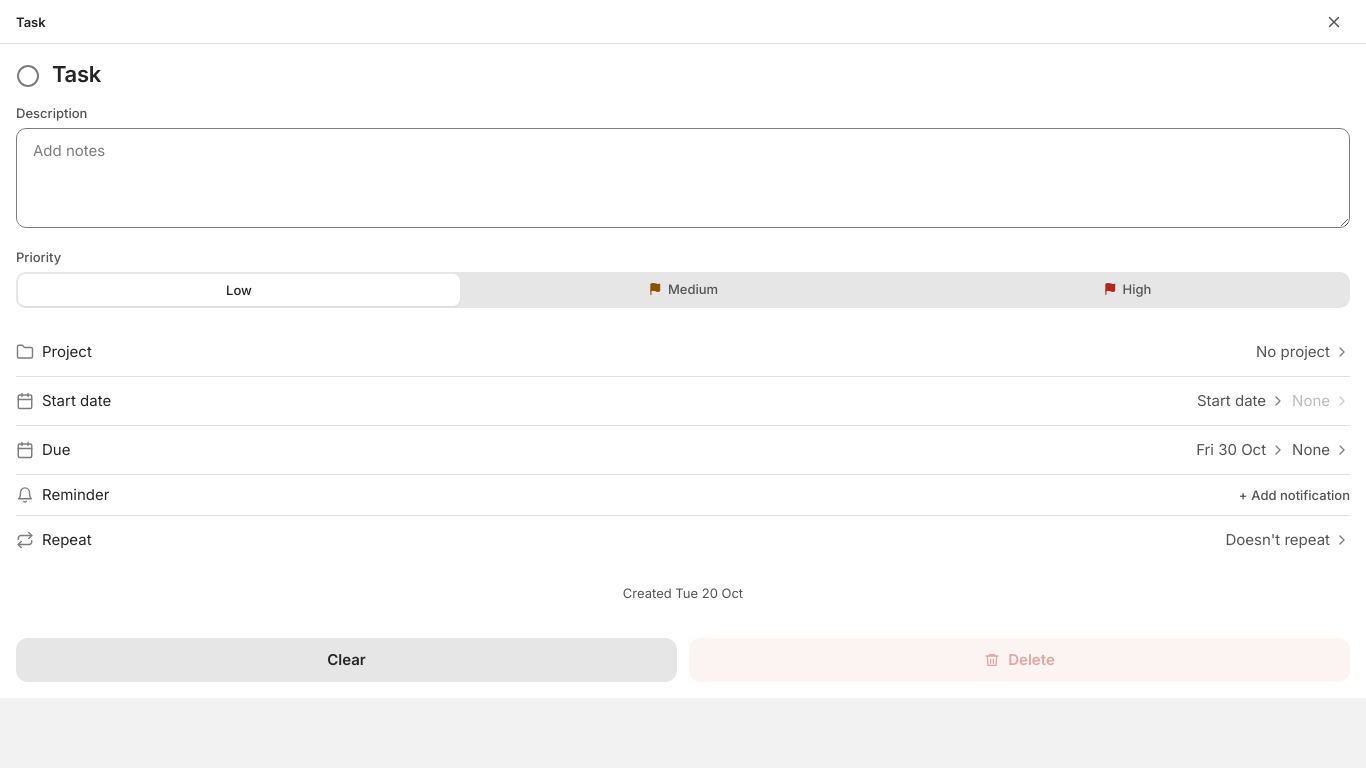
Test: Task details fields (T-TK-10) › cancel closes the Clear dialog without patching and returns focus to the Clear button (UX-11)
Click the button "Clear" at coordinates (346, 660), box [16,638,677,682]
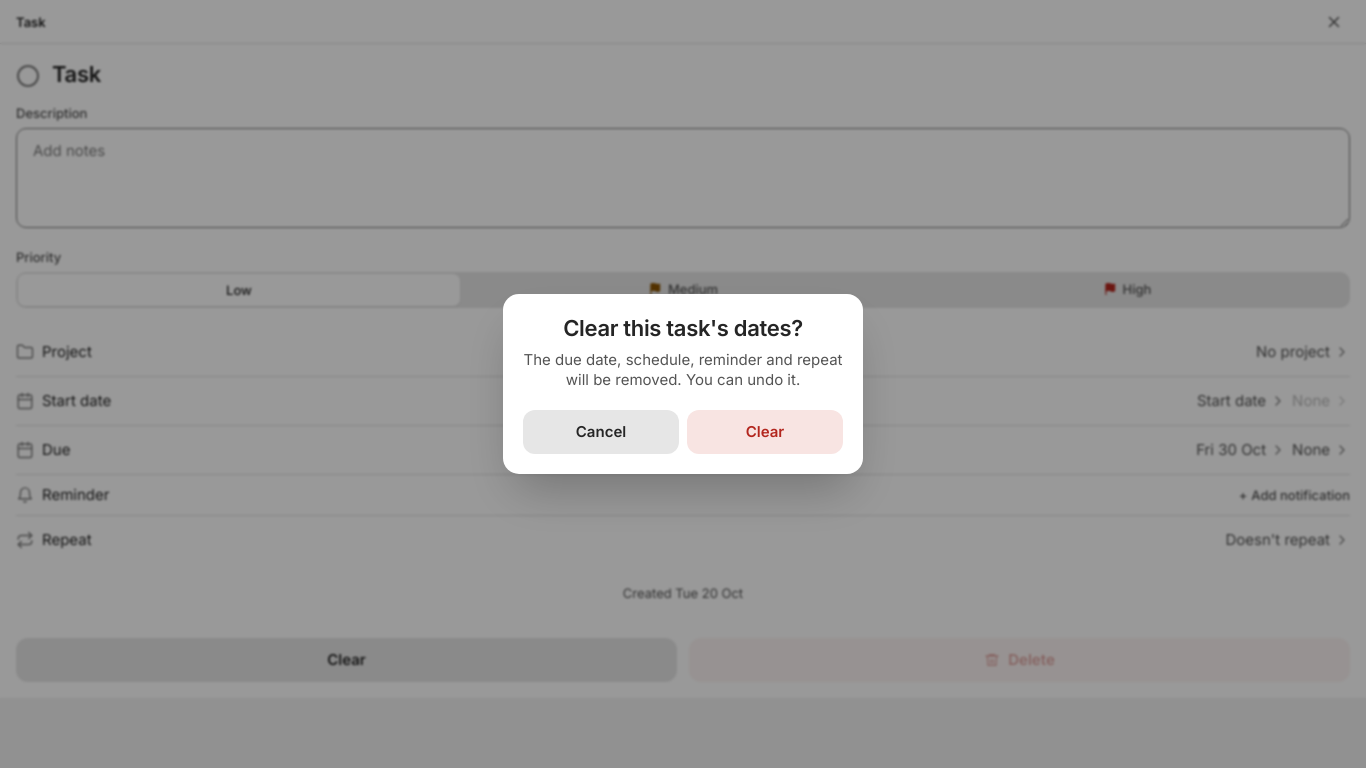
Click the button "Cancel" at coordinates (601, 432), box [523,410,679,454]
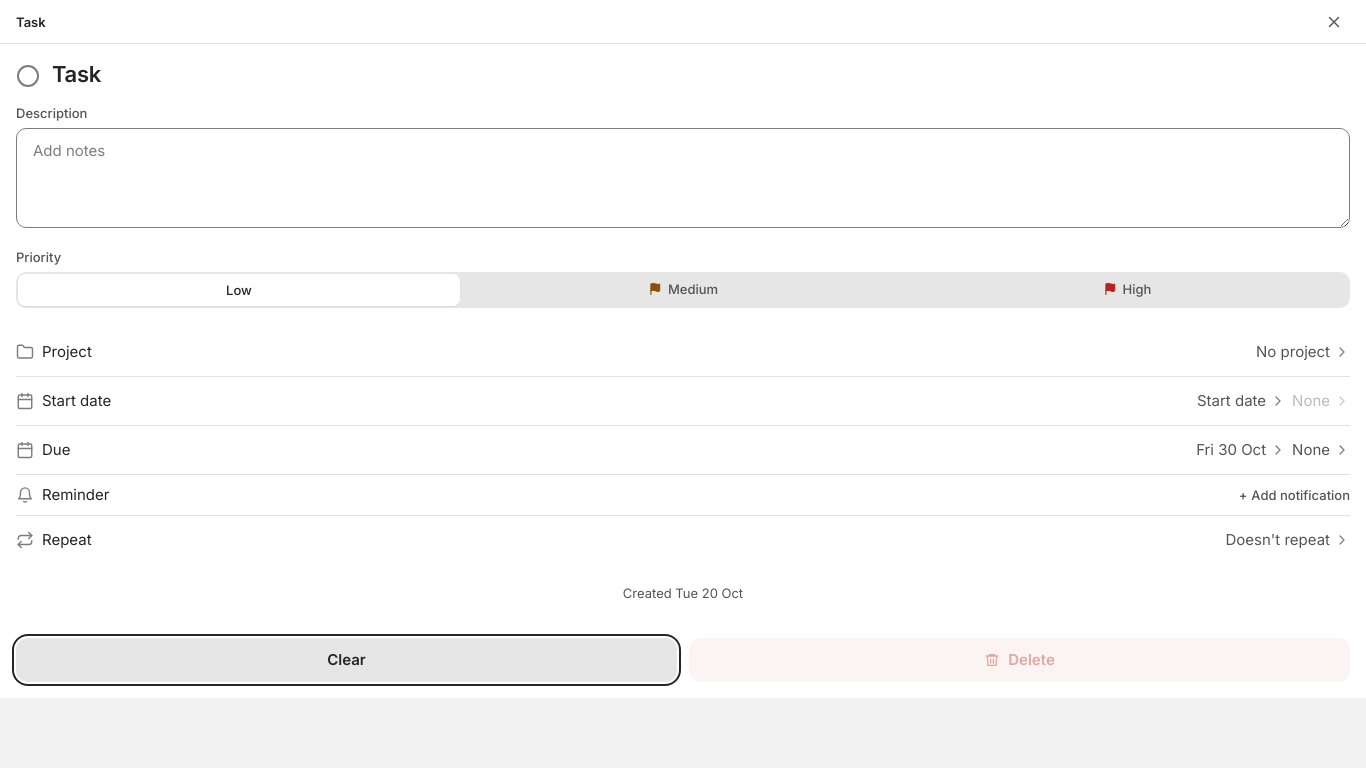
Check: the dialog is gone
